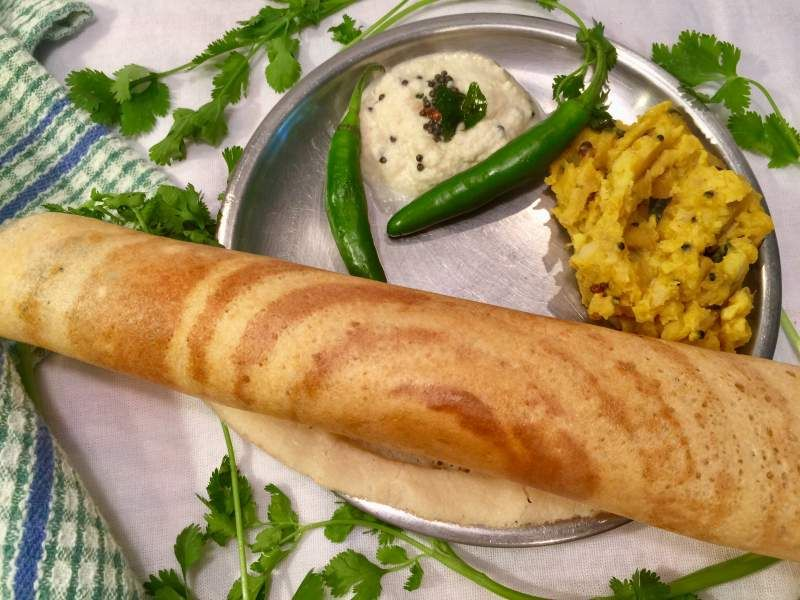dosa: (2, 202, 799, 566)
